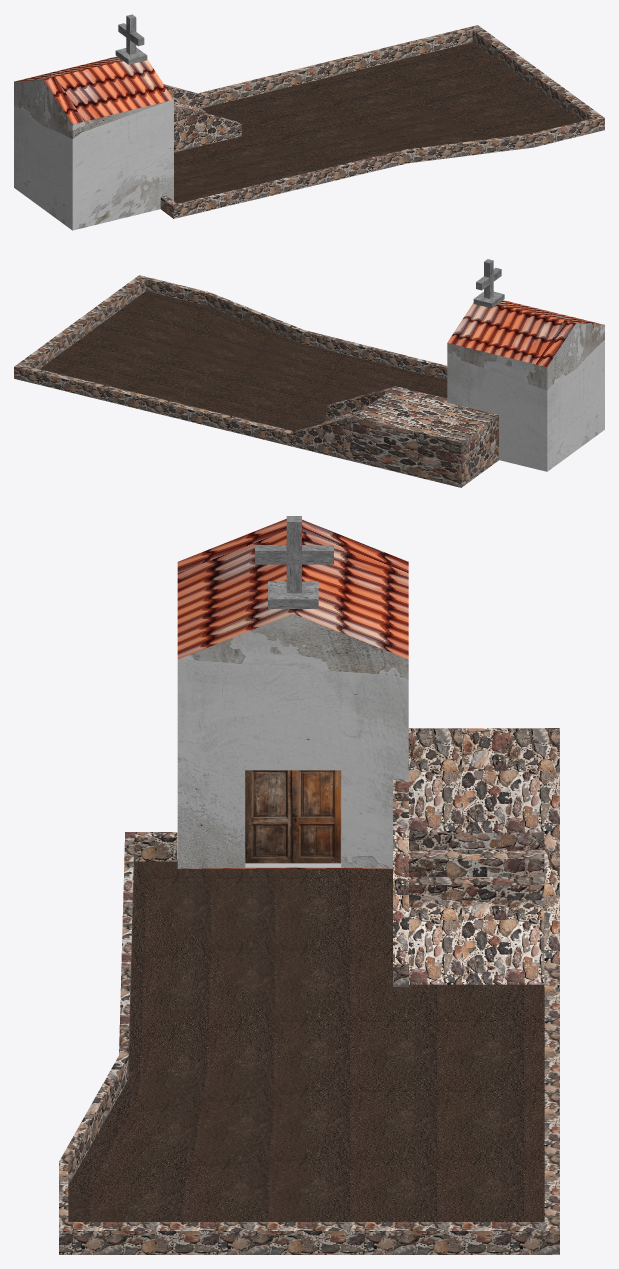
Rendered from panteon.obj.
3 renders of one model, top to bottom at view 1: azimuth 30°, elevation 25°; view 2: azimuth 150°, elevation 25°; view 3: azimuth 270°, elevation 25°, orthographic. The views are drawn at different scales.
Visible parts, largest first — view 1: base-flores.020; view 2: base-flores.020; view 3: base-flores.020.
Boxes of the visible parts, box(x1,y1,x2,y2) form: base-flores.020: box(14, 14, 604, 230); base-flores.020: box(14, 259, 604, 487); base-flores.020: box(59, 516, 559, 1254).
Bounding box in the file's own units: 23.01 × 7.48 × 10.08.
Materials: 7 (6 with a texture image).
